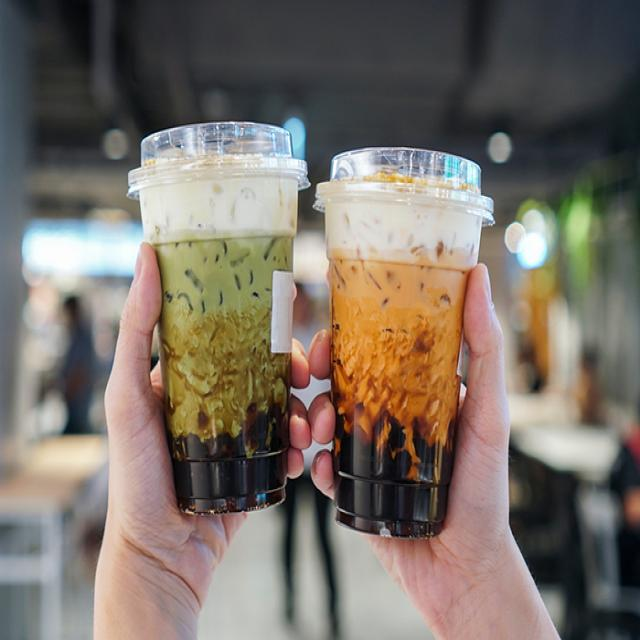cup: (125, 120, 310, 516), (314, 145, 493, 540)
